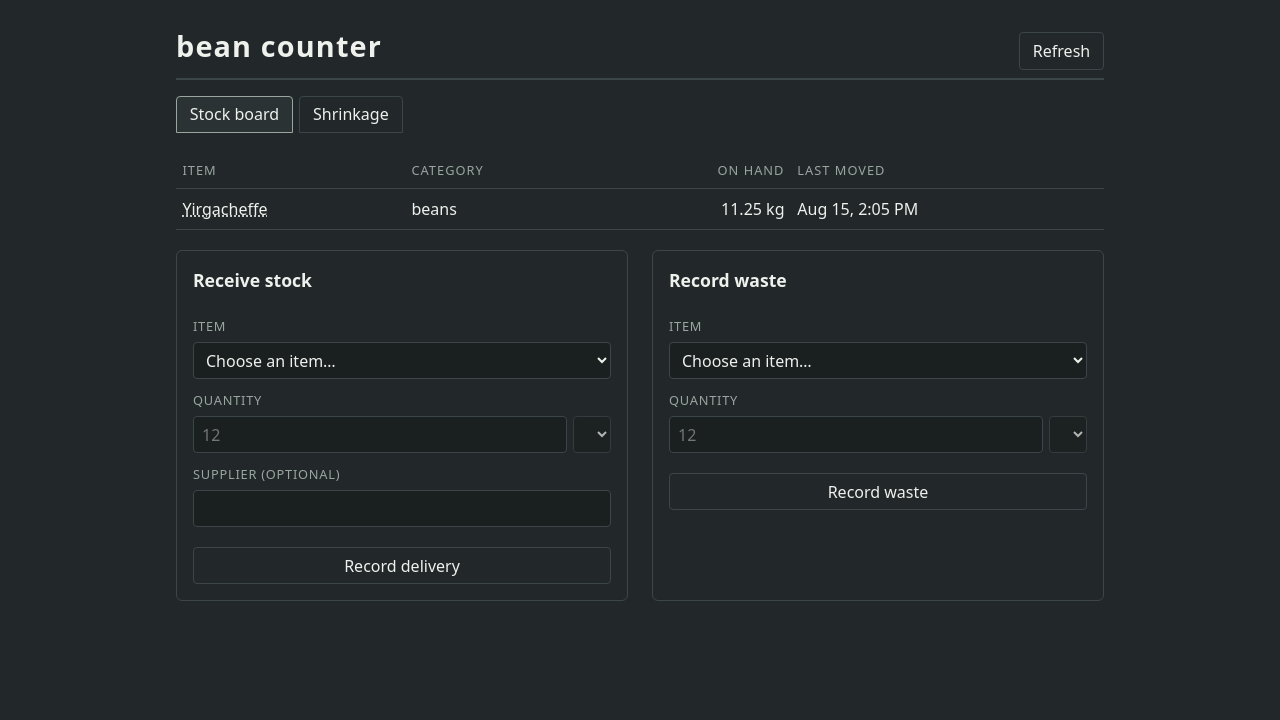
shrinkage report › shows the arithmetic behind one item, and a dash where there is no denominator
Expected: the button "Yirgacheffe" is shown, x1=182 y1=197 x2=268 y2=221
Step 1. Click the tab "Shrinkage" → (351, 114), box x1=299 y1=96 x2=402 y2=133
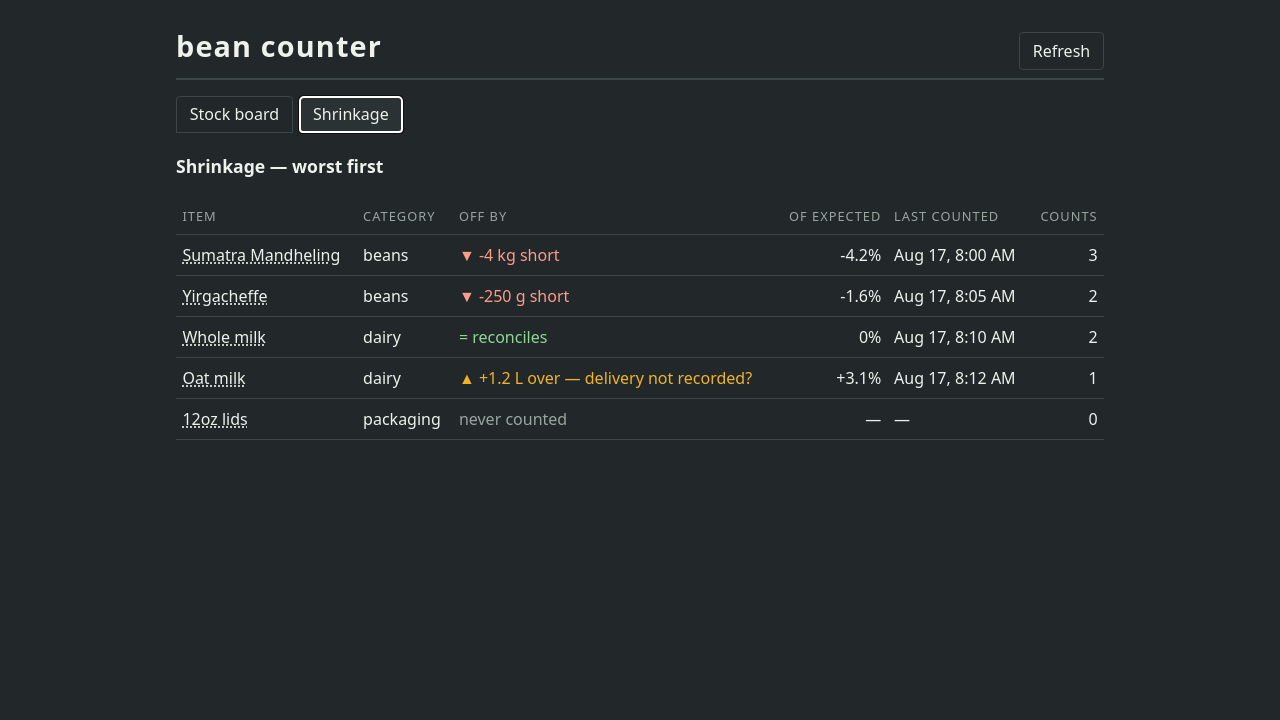
Expected: the table is shown, x1=176 y1=199 x2=1104 y2=440
Step 2. Click the button "Yirgacheffe" → (225, 296), box x1=182 y1=284 x2=268 y2=308
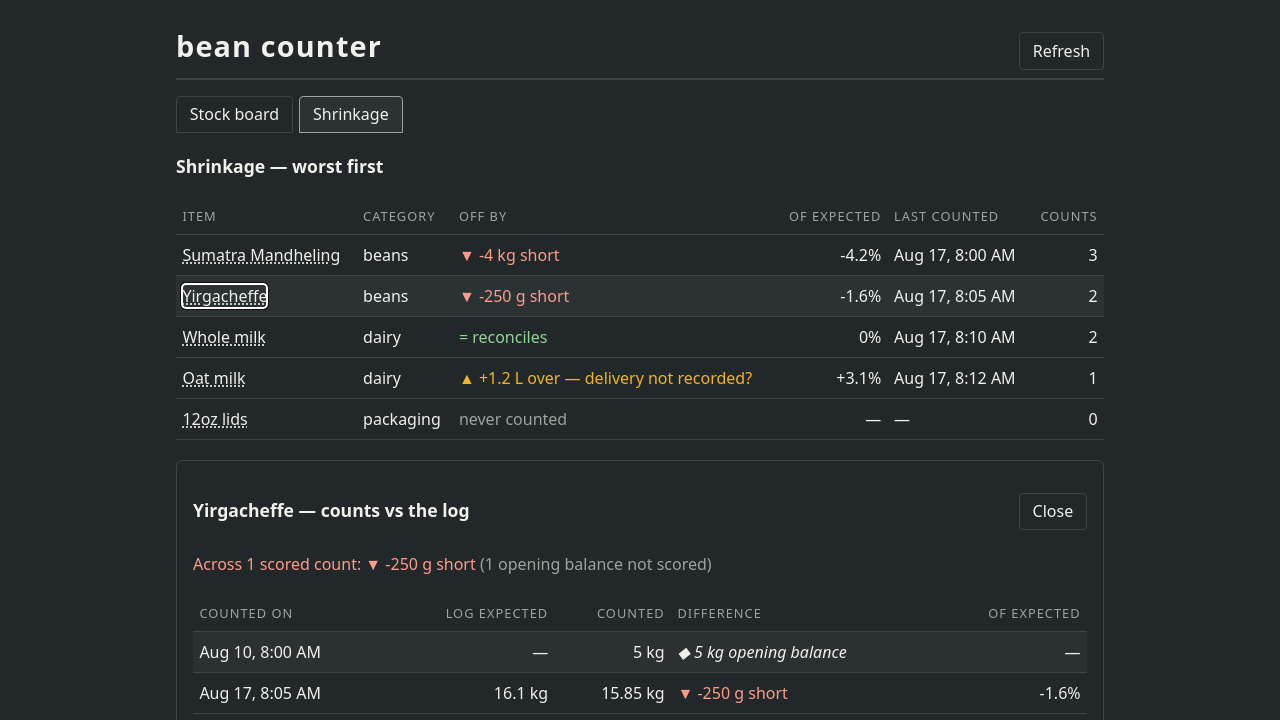
Expected: the row "Aug 17, 8:05 AM 16.1 kg 15.85 kg ▼ -250 g short -1.6%" is shown, x1=193 y1=672 x2=1087 y2=713
Expected: the row "Aug 10, 8:00 AM — 5 kg ◆ 5 kg opening balance —" is shown, x1=193 y1=632 x2=1087 y2=672
